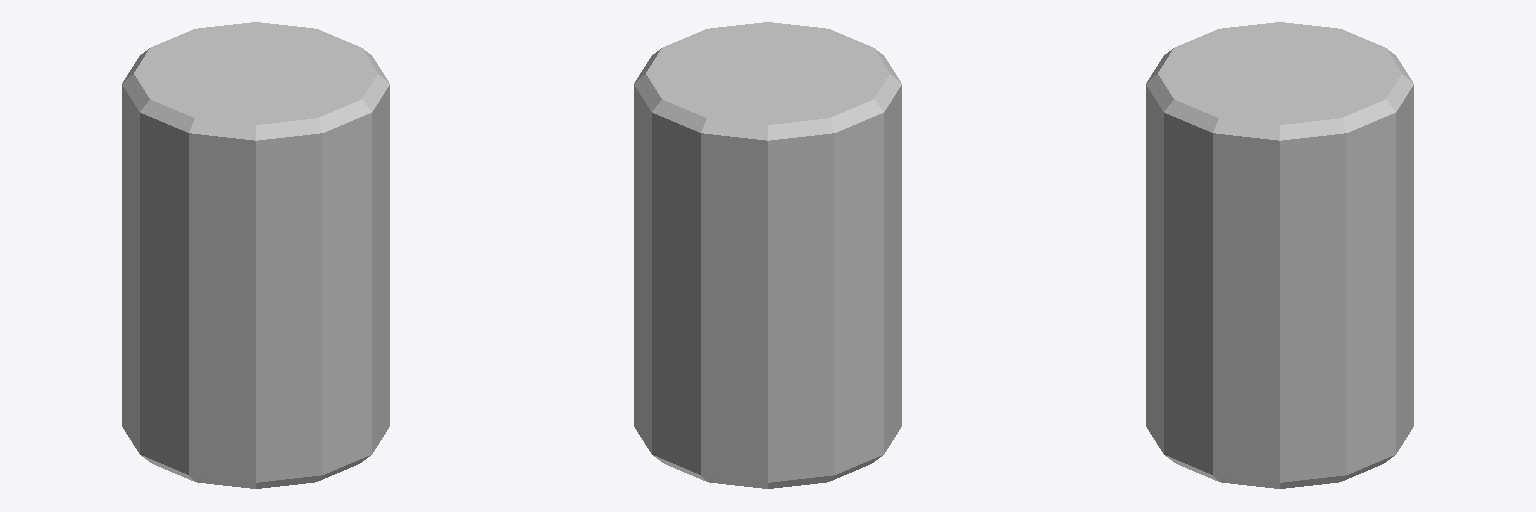
The model's file is ImprovedCandleSmaller.obj.
The picture shows the model from 3 angles: view 1: azimuth 30°, elevation 25°; view 2: azimuth 150°, elevation 25°; view 3: azimuth 270°, elevation 25°; orthographic projection.
Visible parts, largest first — view 1: Cylinder_Cylinder.002; view 2: Cylinder_Cylinder.002; view 3: Cylinder_Cylinder.002.
Boxes of the visible parts, box(x1,y1,x2,y2) form: Cylinder_Cylinder.002: box(122, 22, 389, 488); Cylinder_Cylinder.002: box(634, 22, 901, 488); Cylinder_Cylinder.002: box(1146, 22, 1413, 488).
Bounding box in the file's own units: 0.6 × 0.9 × 0.6.